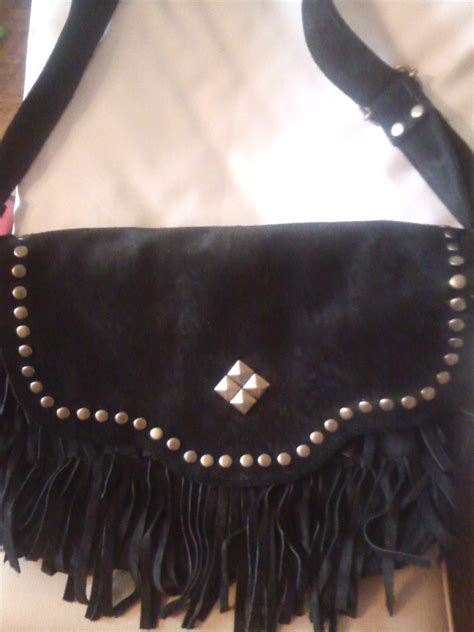gamuza: (4, 222, 474, 632)
